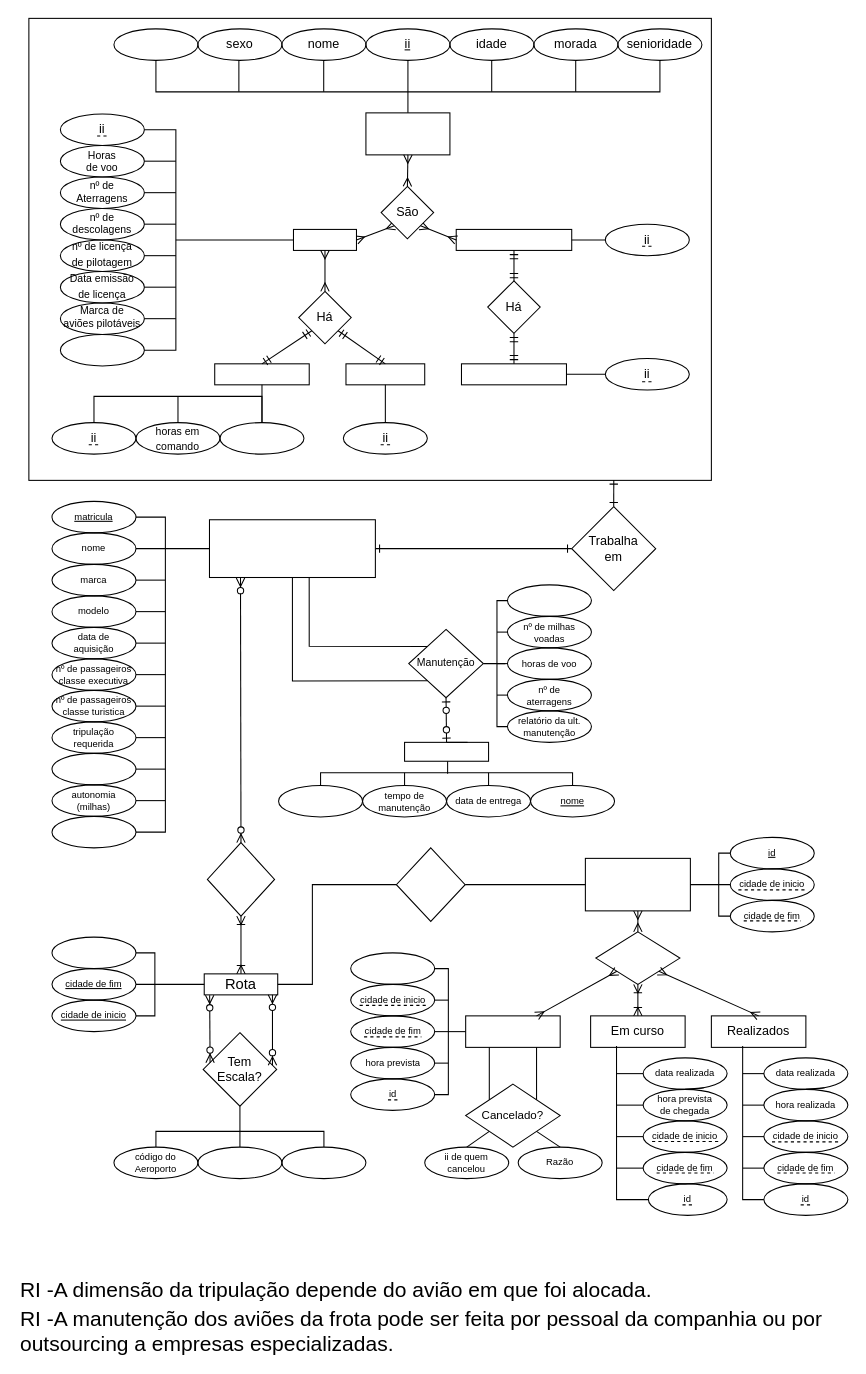
The diagram is 866 pixels wide and 1374 high, and some of its shapes have lost their labels. The shapes that lost their labels are listed below. From the top down, each one's box as (x1, y1, x2, y2) in pixels, then its label:
(113, 28, 198, 60): categoria
(365, 112, 450, 155): Tripulação
(292, 228, 356, 250): Pilotos
(455, 228, 572, 250): Pessoal de Cabine
(59, 333, 144, 366): Modelo de aviões pilotáveis
(214, 363, 309, 385): Comandante
(345, 363, 425, 385): Co-Piloto
(460, 363, 566, 385): Chefe de Cabine
(219, 422, 304, 454): data de promoção
(208, 519, 375, 578): Aviões
(506, 584, 591, 616): data da última manutenção
(51, 752, 136, 785): carga suportada
(404, 741, 489, 761): Empresa
(278, 784, 363, 817): preço pago
(51, 815, 136, 848): autonomia (horas)
(206, 842, 275, 916): Cumpre
(395, 847, 465, 921): Definem
(584, 857, 690, 911): Voos
(51, 936, 136, 969): nº de milhas
(350, 952, 435, 984): data prevista
(595, 931, 680, 984): Tipo
(465, 1015, 560, 1047): Planeados
(197, 1146, 282, 1179): designação do local
(281, 1146, 366, 1179): país
